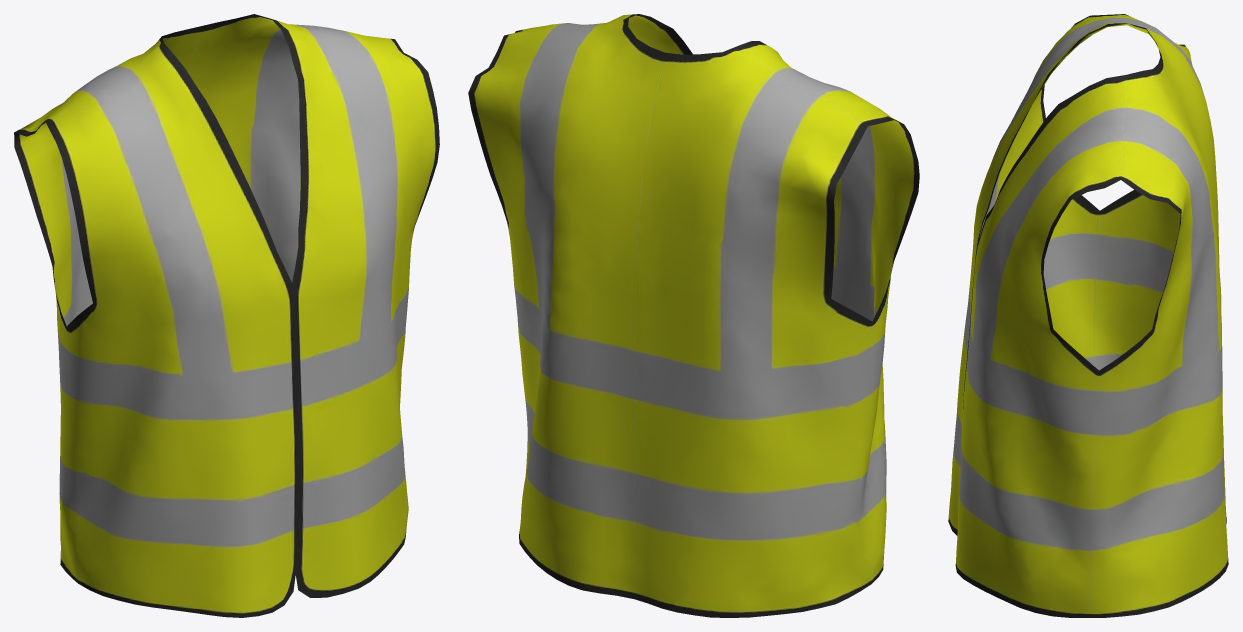
File: vest.glb
The picture shows the model from 3 angles, left to right: view 1: azimuth 30°, elevation 25°; view 2: azimuth 150°, elevation 25°; view 3: azimuth 270°, elevation 25°; orthographic projection. The views are drawn at different scales.
Visible parts, largest first — view 1: Object_4; view 2: Object_4; view 3: Object_4.
Boxes of the visible parts, bbox=[...] form: Object_4: bbox=[14, 14, 439, 617]; Object_4: bbox=[468, 14, 919, 617]; Object_4: bbox=[948, 14, 1228, 617].
Size of the model in its own units: 0.4538 by 0.6052 by 0.3076.
1 material, 1 textured.
